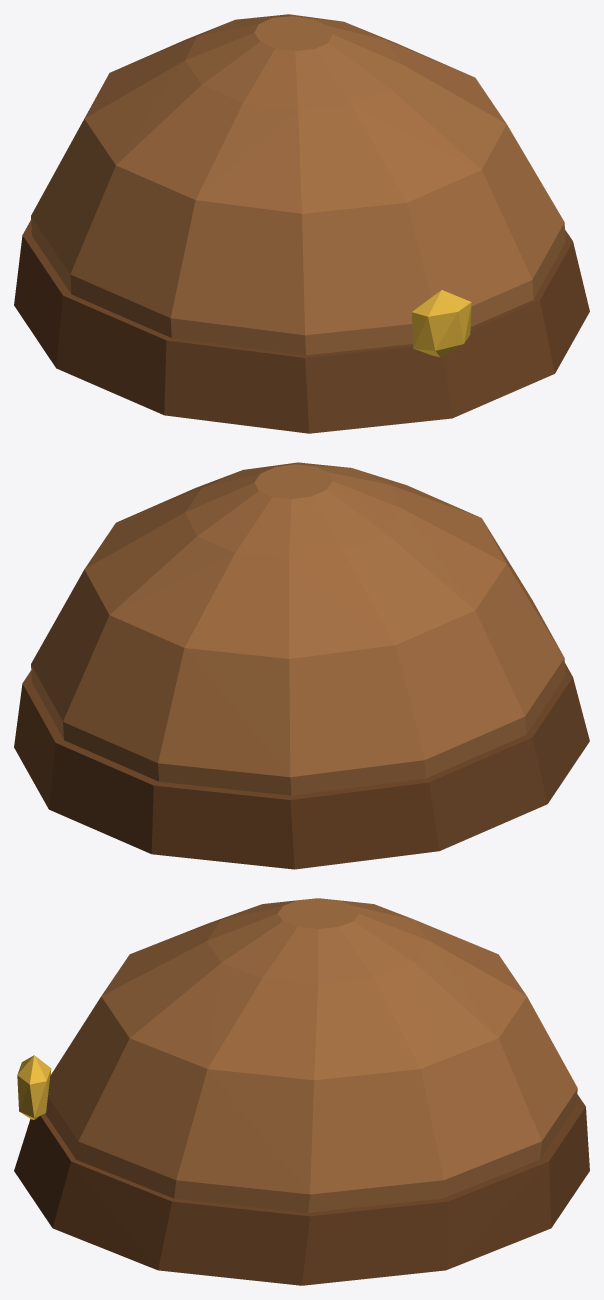
Rendered from gear_leather_cap.glb.
The picture shows the model from 3 angles, top to bottom: view 1: azimuth 30°, elevation 25°; view 2: azimuth 150°, elevation 25°; view 3: azimuth 270°, elevation 25°; orthographic projection. The views are drawn at different scales.
Parts seen in each view (by area): view 1: gear_leather_cap; view 2: gear_leather_cap; view 3: gear_leather_cap.
Part boxes in pixels (box(x1,y1,x2,y2)): gear_leather_cap: box(14, 14, 589, 433); gear_leather_cap: box(14, 462, 589, 869); gear_leather_cap: box(14, 898, 589, 1285).
Bounding box in the file's own units: 0.268 × 0.14 × 0.284.
